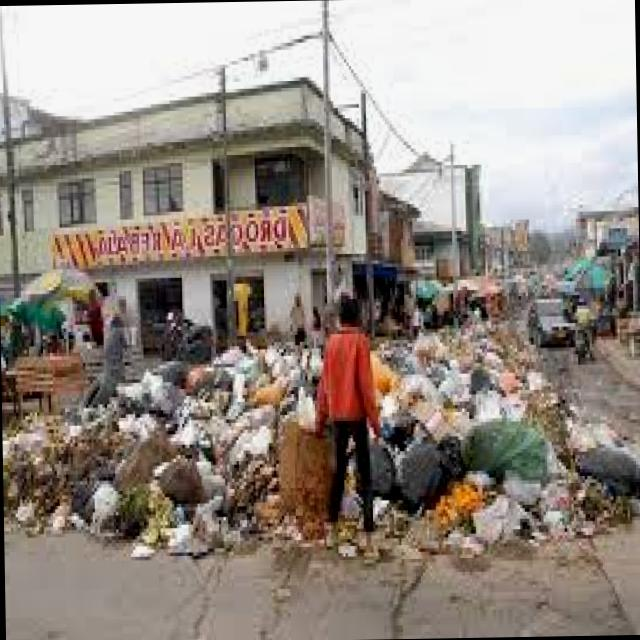garbage: (0, 299, 640, 570)
